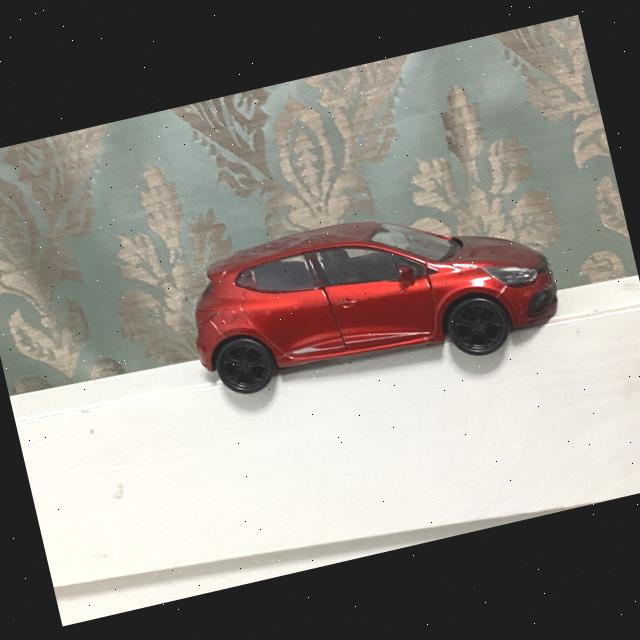Dogru_Jant: (450, 299, 505, 353), (217, 338, 270, 391)
